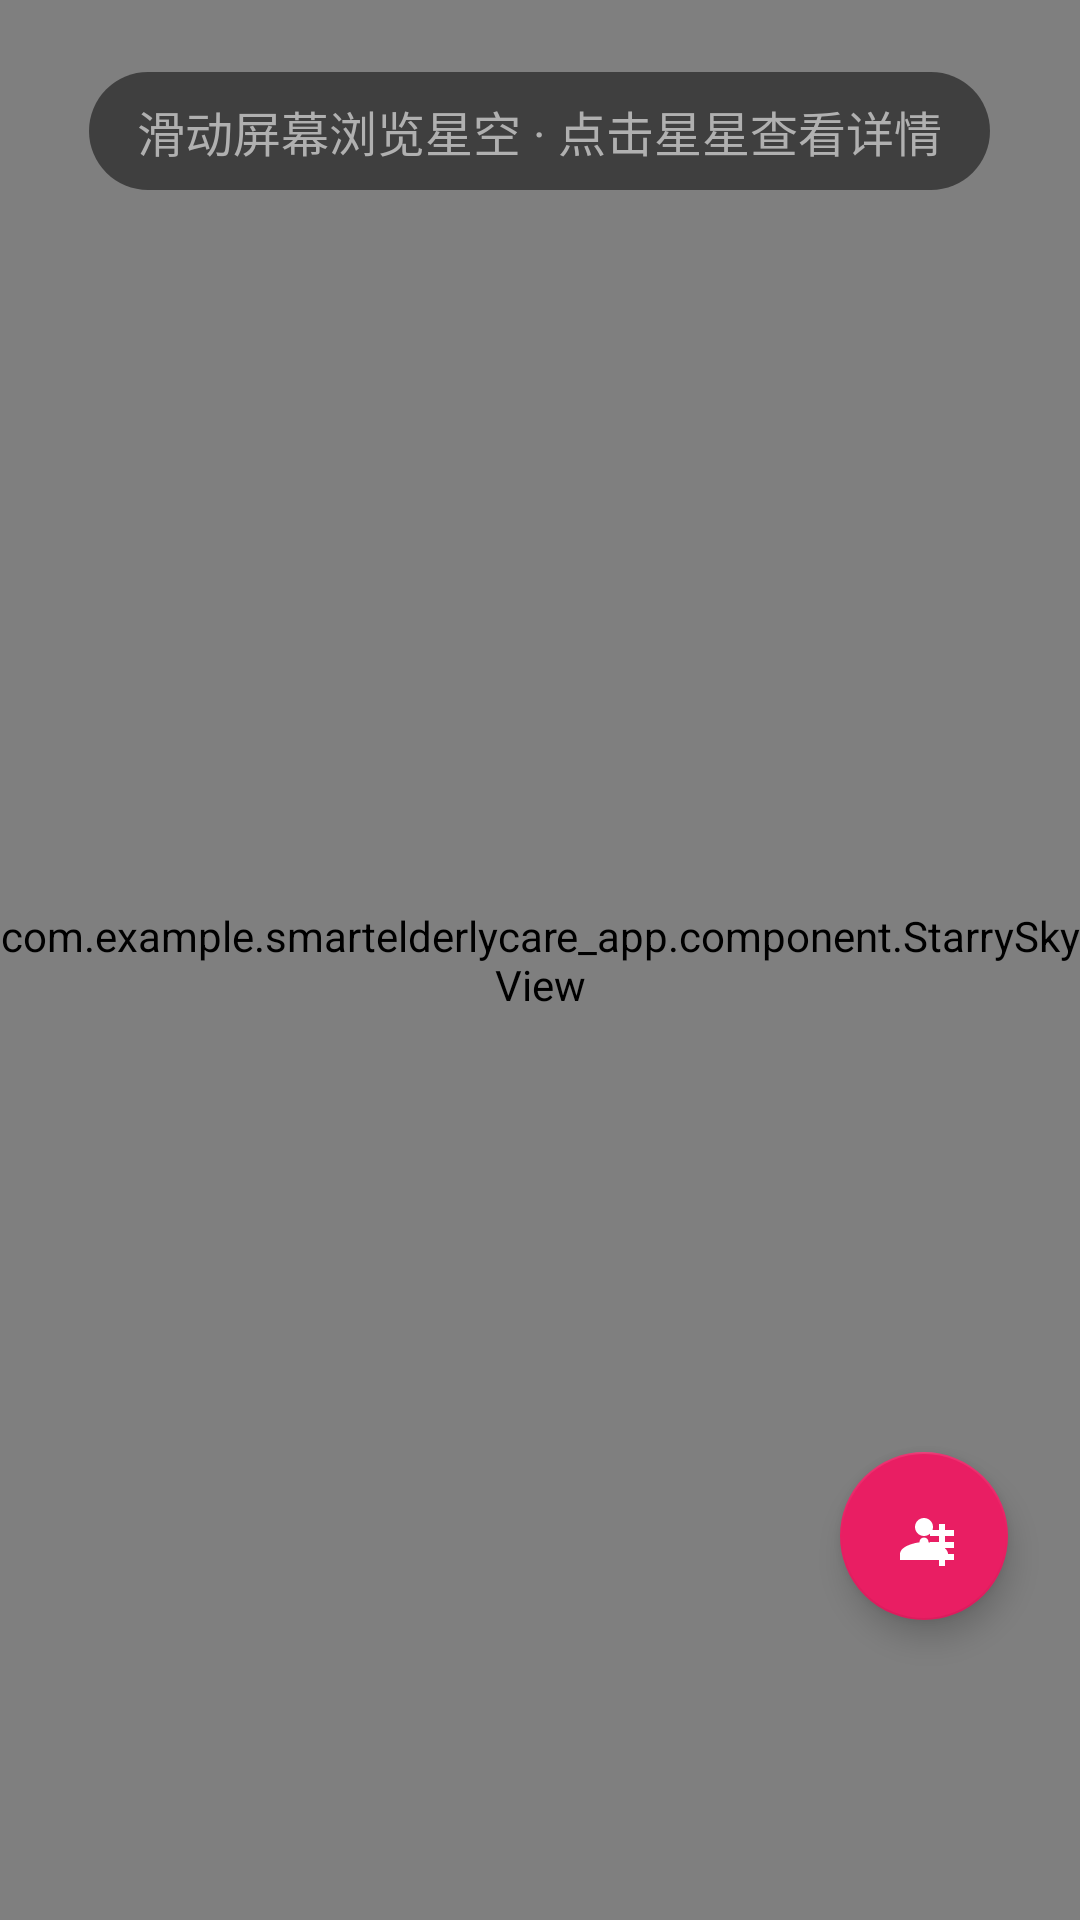

Where icons sit on this 1080px x 1920px app screen, as (x1, y1, x2, y2):
添加逝者: (840, 1452, 1008, 1620)
